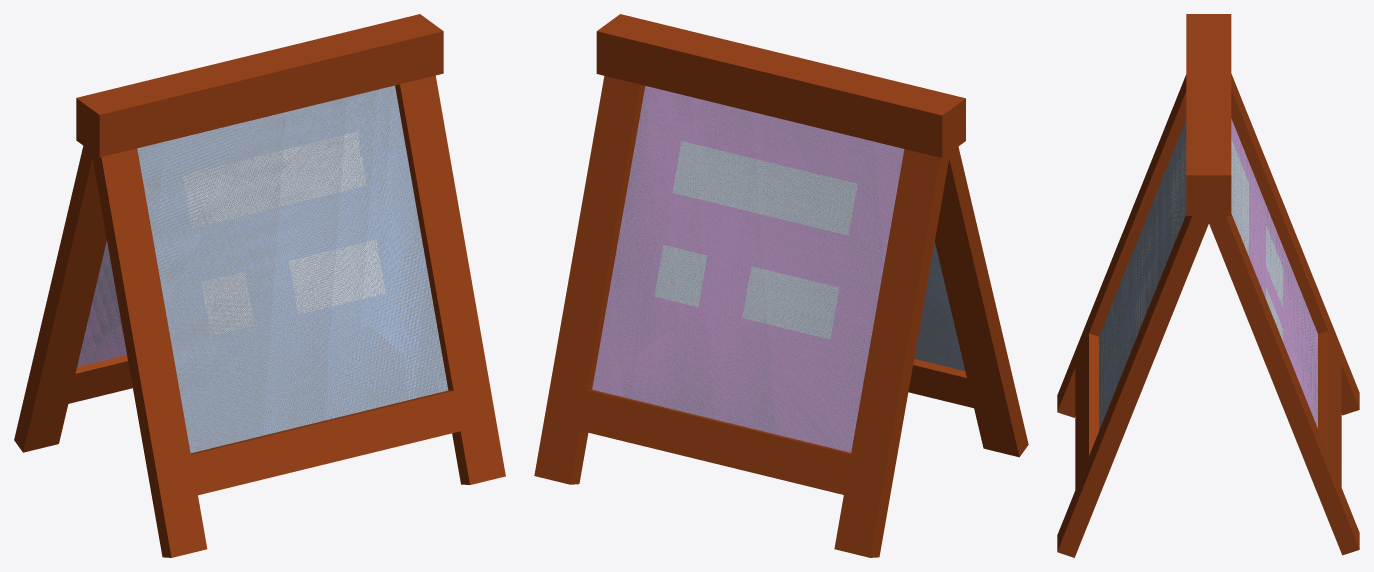
Rendered from A Sign.fbx.
3 renders of one model, left to right at view 1: azimuth 30°, elevation 25°; view 2: azimuth 150°, elevation 25°; view 3: azimuth 270°, elevation 25°, orthographic. The views are drawn at different scales.
Parts seen in each view (by area): view 1: cube_5, cube_4, cube_2, cube_3, cube, cube_6, cube_8, cube_7; view 2: cube_8, cube_4, cube, cube_1, cube_2, cube_7, cube_5, cube_6; view 3: cube_4, cube_3, cube_1, cube_5, cube_8, cube_2, cube, cube_7, cube_6.
Boxes of the visible parts, left/top/right/bottom form: cube_5: left=137, top=85, right=448, bottom=453; cube_4: left=76, top=14, right=443, bottom=157; cube_2: left=92, top=148, right=207, bottom=557; cube_3: left=395, top=75, right=505, bottom=484; cube: left=14, top=146, right=106, bottom=452; cube_6: left=190, top=390, right=460, bottom=495; cube_8: left=77, top=241, right=126, bottom=366; cube_7: left=68, top=355, right=132, bottom=403; cube_8: left=592, top=86, right=904, bottom=452; cube_4: left=596, top=14, right=965, bottom=158; cube: left=834, top=149, right=949, bottom=557; cube_1: left=534, top=76, right=645, bottom=484; cube_2: left=935, top=146, right=1028, bottom=457; cube_7: left=580, top=389, right=850, bottom=494; cube_5: left=914, top=242, right=965, bottom=370; cube_6: left=908, top=359, right=973, bottom=408; cube_4: left=1186, top=14, right=1231, bottom=215; cube_3: left=1057, top=214, right=1211, bottom=557; cube_1: left=1206, top=214, right=1359, bottom=555; cube_5: left=1099, top=119, right=1186, bottom=430; cube_8: left=1231, top=119, right=1317, bottom=428; cube_2: left=1057, top=74, right=1186, bottom=417; cube: left=1231, top=74, right=1359, bottom=415; cube_7: left=1318, top=331, right=1341, bottom=486; cube_6: left=1075, top=333, right=1098, bottom=489.
Bounding box in the file's own units: 45 × 50.13 × 35.7.
1 material, 1 textured.
